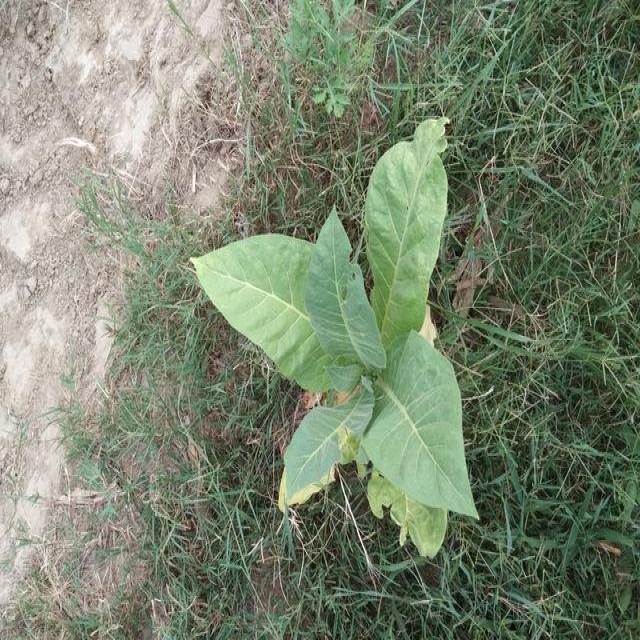crop: (180, 108, 496, 563)
